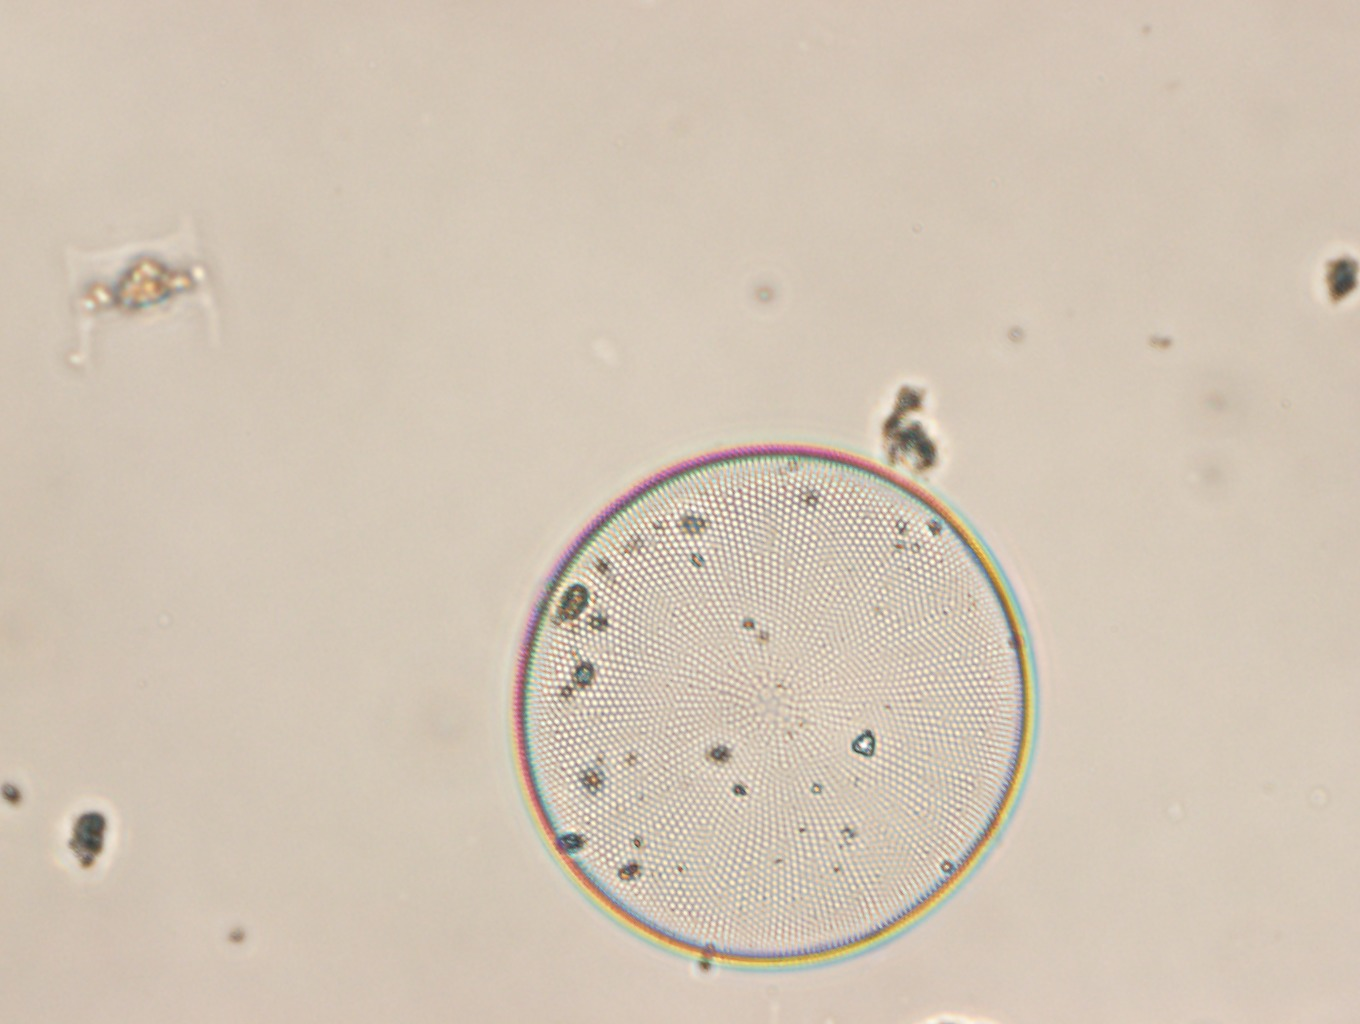coscinodiscus: (512, 445, 1035, 965)
